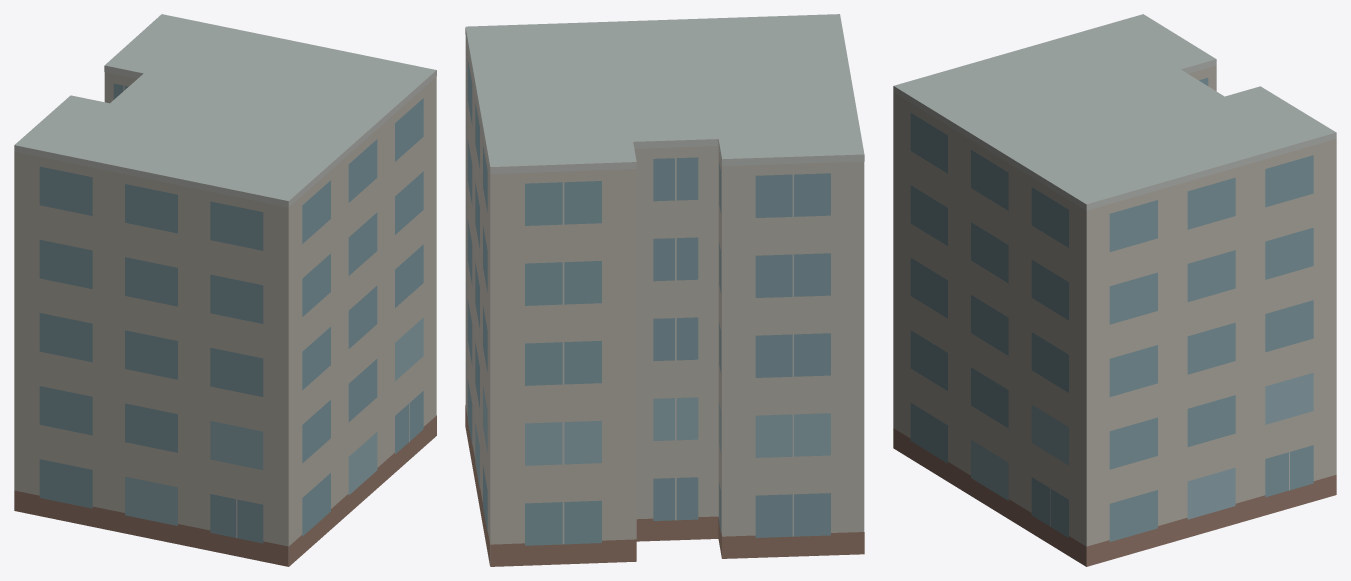
Rendered from survey-upis-32997215.glb.
3 views of the same model, side by side, from view 1: azimuth 30°, elevation 25°; view 2: azimuth 150°, elevation 25°; view 3: azimuth 270°, elevation 25° (orthographic). The views are drawn at different scales.
Parts seen in each view (by area): view 1: survey-upis-32997215.tmp; view 2: survey-upis-32997215.tmp; view 3: survey-upis-32997215.tmp.
Part boxes in pixels (left/top/right/bottom): survey-upis-32997215.tmp: left=14, top=14, right=436, bottom=566; survey-upis-32997215.tmp: left=465, top=14, right=864, bottom=566; survey-upis-32997215.tmp: left=893, top=14, right=1336, bottom=566.
Bounding box in the file's own units: 15.67 × 13.9 × 15.41.
